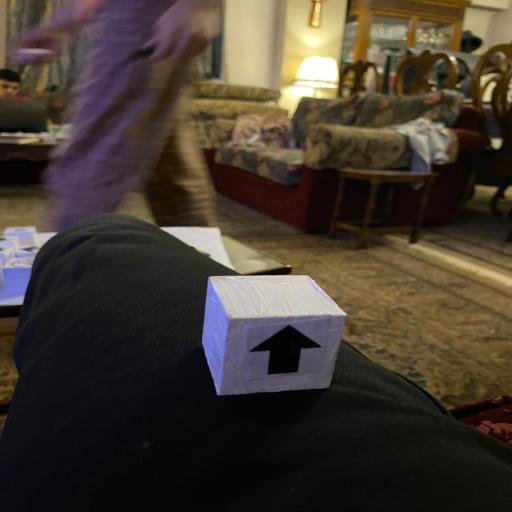Up: (200, 272, 350, 396)
